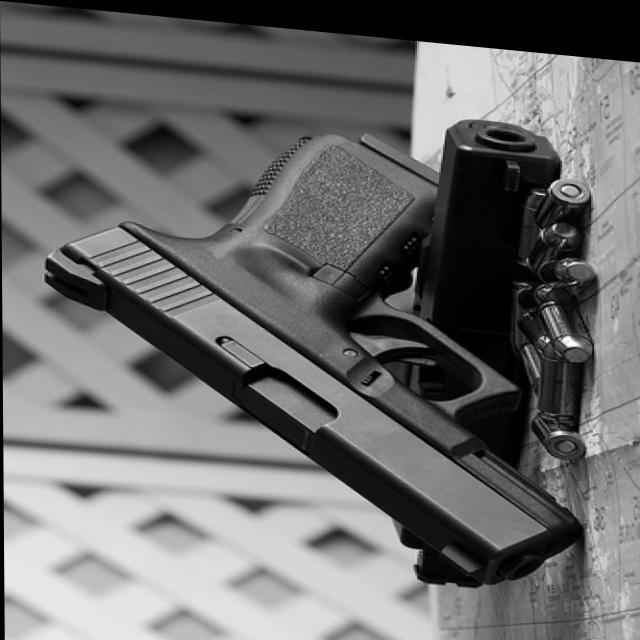handgun: (41, 99, 584, 579), (387, 97, 559, 585)
